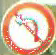Don't turn left: (1, 2, 54, 54)
